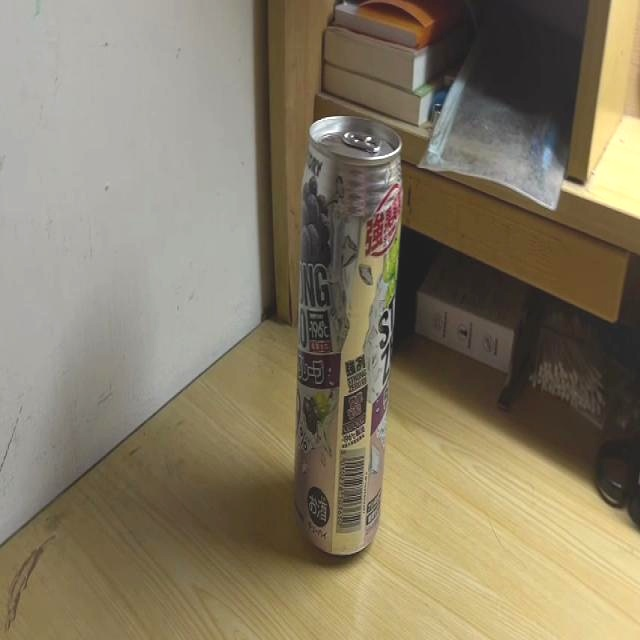Liquor: (291, 113, 404, 557)
